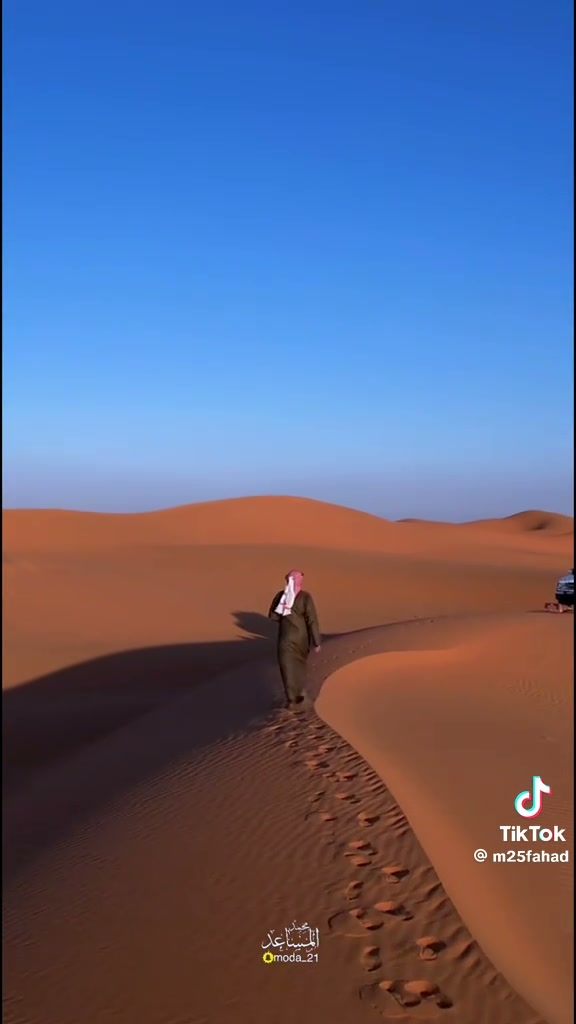human_footprint: (294, 729, 482, 1023), (296, 730, 419, 976), (268, 570, 320, 708), (359, 978, 452, 1020), (328, 907, 383, 938), (546, 568, 572, 612), (374, 899, 412, 921), (344, 840, 376, 866), (416, 935, 445, 960), (360, 945, 381, 972), (382, 864, 409, 884), (348, 839, 375, 854), (334, 790, 359, 803), (344, 881, 361, 900), (357, 811, 378, 826), (304, 757, 328, 770), (350, 853, 371, 867), (318, 811, 336, 824), (335, 771, 356, 781), (311, 789, 325, 802)
